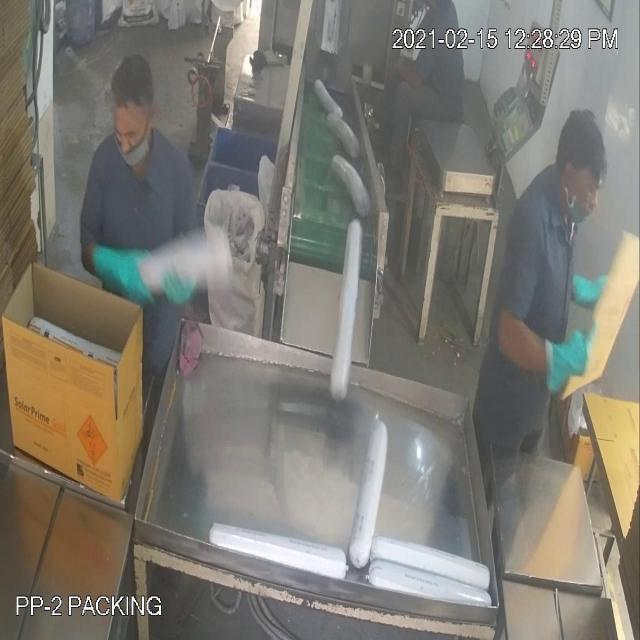Gloves: (106, 111, 554, 358)
